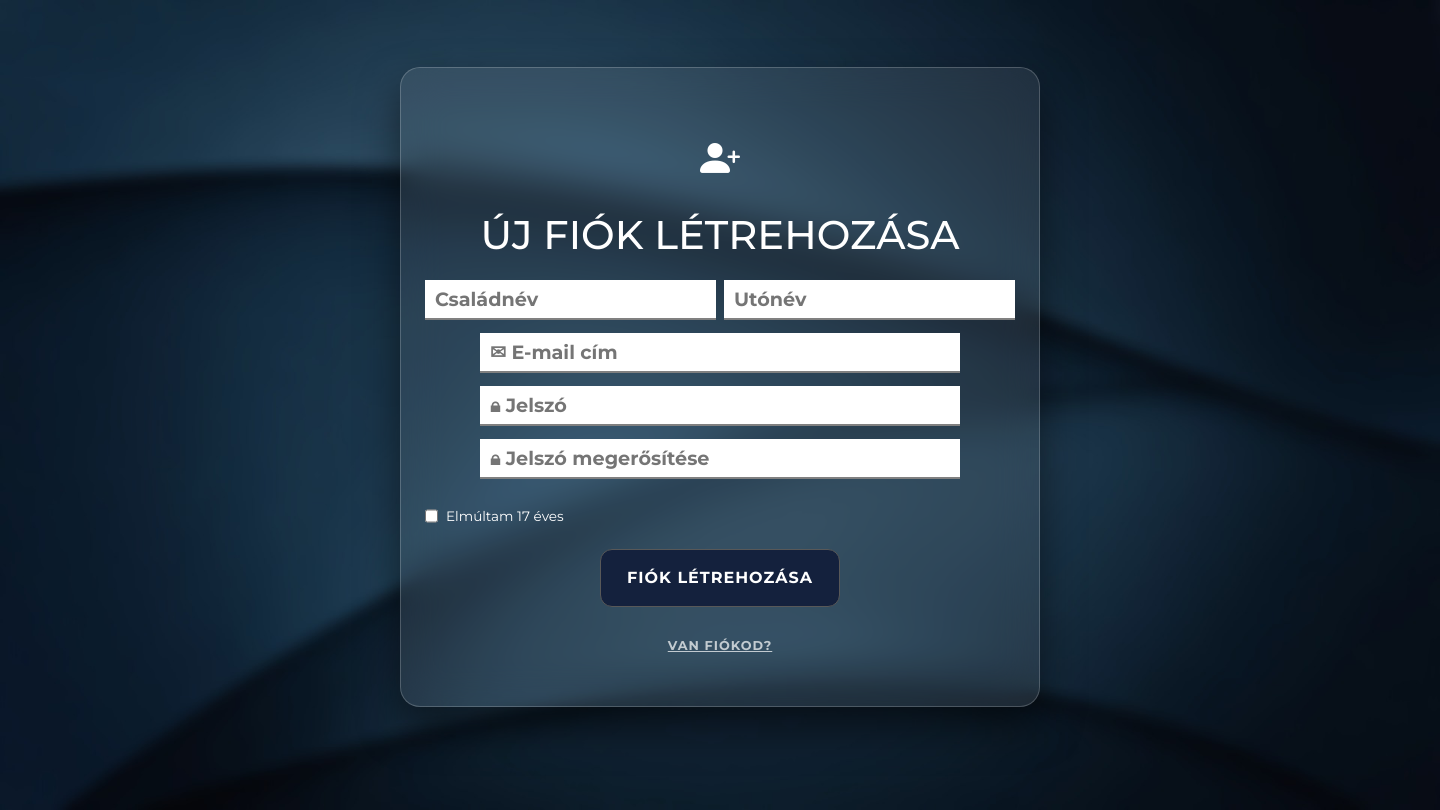
Test case: StudenRegisterComp – Tanuló regisztráció › megjelenik a jelszó erősség jelző gépelés közben
(page scrolled)
Type "gyenge" into the password field with placeholder "🔒︎ Jelszó". click: coordinates (720, 406)
box: left=480, top=386, right=960, bottom=426
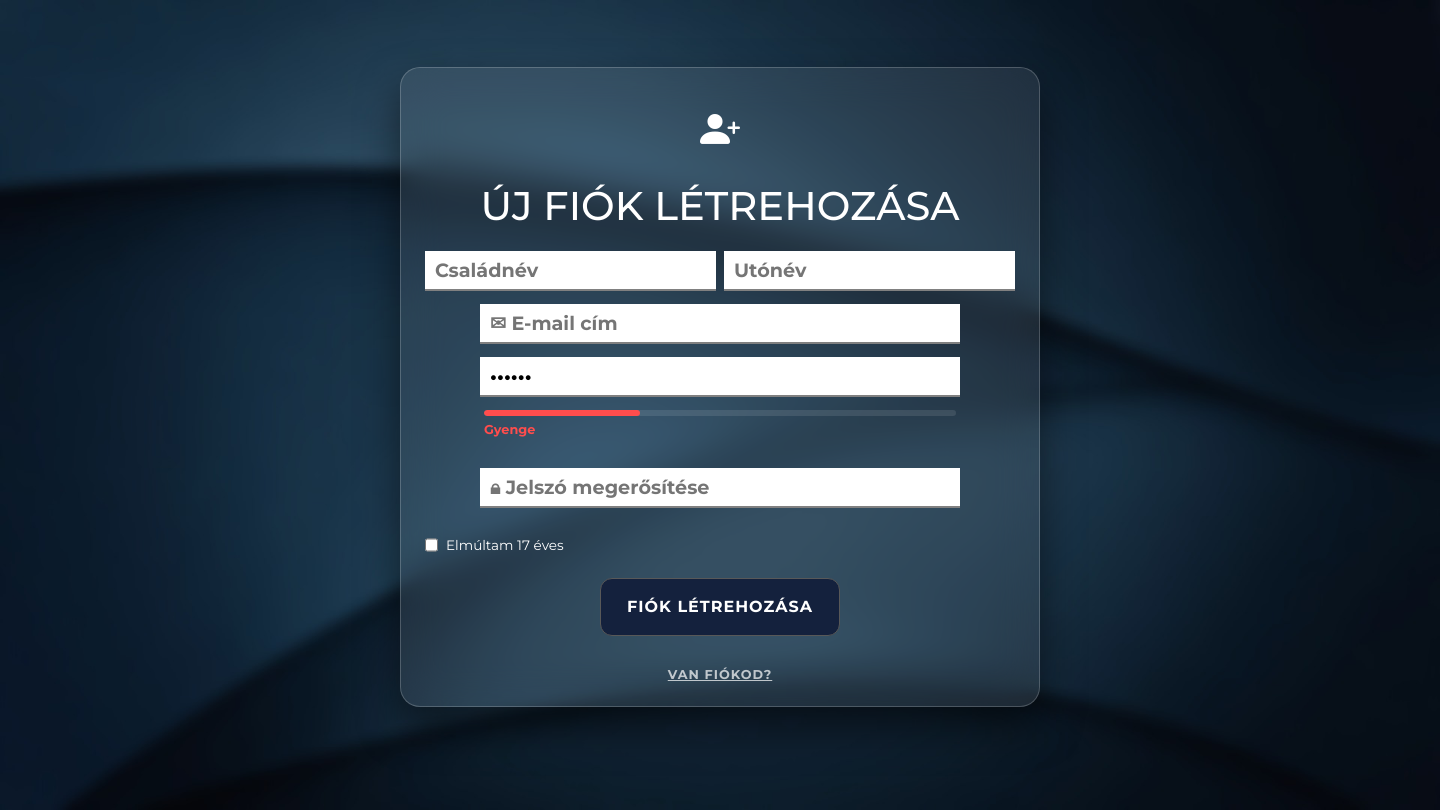
Expected: the text "Gyenge" is shown, left=484, top=422, right=535, bottom=436
